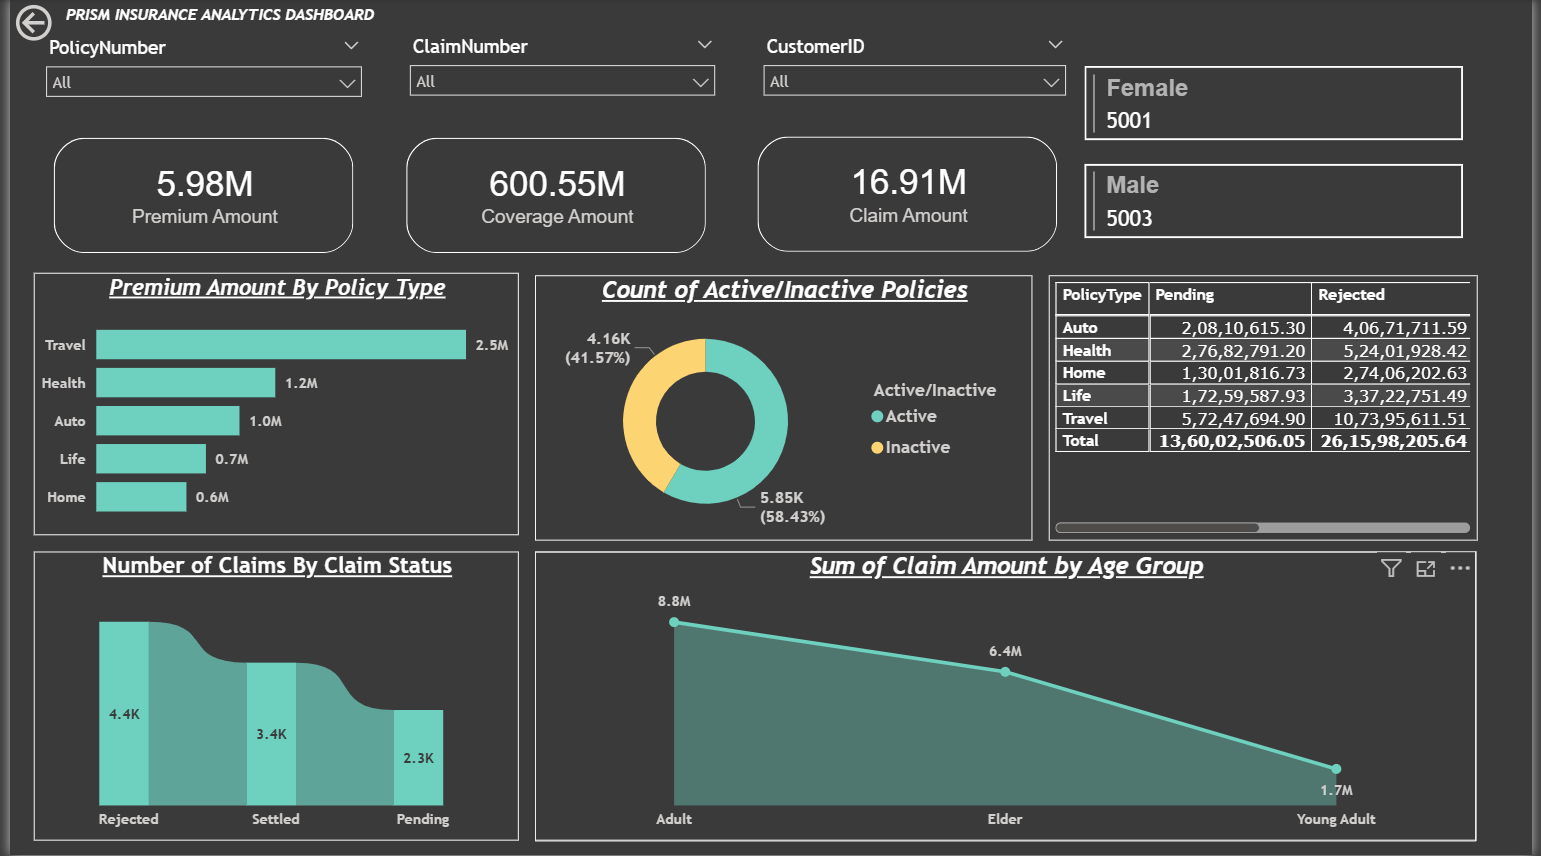

This screenshot's page, from the dashboard's own definition file:
{"tool":"powerbi","page":{"name":"Dashboard","canvas":[1280,720],"ordinal":0},"visuals":[{"type":"slicer","fields":{"Values":["InsuranceData.PolicyNumber"]},"box":[19.8,26.2,286.2,73.8],"z":0},{"type":"slicer","fields":{"Values":["InsuranceData.ClaimNumber"]},"box":[326,25,277.5,73.8],"z":1000},{"type":"slicer","fields":{"Values":["InsuranceData.CustomerID"]},"box":[623.5,25,275,73.8],"z":2000},{"type":"textbox","box":[41.6,0,284.8,35.3],"z":3000},{"type":"cardVisual","fields":{"Data":["InsuranceData.Total Premium Amount"]},"box":[19.8,100,286.2,131.2],"z":4000},{"type":"cardVisual","fields":{"Data":["InsuranceData.Total Coverage Amount"]},"box":[316,100,286.2,131.2],"z":5000},{"type":"cardVisual","fields":{"Data":["InsuranceData.Total Claim Amount"]},"box":[612.3,98.7,286.2,131.2],"z":6000},{"type":"multiRowCard","fields":{"Values":["InsuranceData.Gender","CountNonNull(InsuranceData.Gender)"]},"box":[898.8,51.2,327.9,179.1],"z":7000},{"type":"actionButton","box":[0,0,100,40],"z":8000},{"type":"ribbonChart","title":"Number of Claims By Claim Status","fields":{"Category":["InsuranceData.ClaimStatus"],"Y":["CountNonNull(InsuranceData.ClaimStatus)"]},"box":[19.8,465.1,408.1,243],"z":9000},{"type":"barChart","title":"Premium Amount By Policy Type","fields":{"Category":["InsuranceData.PolicyType"],"Y":["Sum(InsuranceData.PremiumAmount)"]},"box":[19.8,230.2,408.1,220.9],"z":10000},{"type":"lineChart","title":"Sum of Claim Amount by  Age Group","fields":{"Category":["InsuranceData. Age Group"],"Y":["InsuranceData.Avg Claim by Age Group"]},"box":[441.9,465.1,791.9,243],"z":11000},{"type":"donutChart","title":"Count of  Active/Inactive Policies","fields":{"Category":["InsuranceData. Active/Inactive"],"Y":["CountNonNull(InsuranceData. Active/Inactive)"]},"box":[441.3,232.6,418.6,223.3],"z":12000},{"type":"pivotTable","fields":{"Values":["Sum(InsuranceData.CoverageAmount)"],"Rows":["InsuranceData.PolicyType"],"Columns":["InsuranceData.ClaimStatus"]},"box":[873.3,232.6,360.5,223.3],"z":13000}]}

Visuals, with their boxes in screenshot pixels (x1, y1, x2, y2), scaled from the page's 1280x720 canvas onto the 1541x856 screenshot:
slicer - InsuranceData.PolicyNumber: 24,31,368,119
slicer - InsuranceData.ClaimNumber: 392,30,727,117
slicer - InsuranceData.CustomerID: 751,30,1082,117
textbox: 50,0,393,42
cardVisual - InsuranceData.Total Premium Amount: 24,119,368,275
cardVisual - InsuranceData.Total Coverage Amount: 380,119,725,275
cardVisual - InsuranceData.Total Claim Amount: 737,117,1082,273
multiRowCard - InsuranceData.Gender x CountNonNull(InsuranceData.Gender): 1082,61,1477,274
actionButton: 0,0,120,48
"Number of Claims By Claim Status" ribbonChart: 24,553,515,842
"Premium Amount By Policy Type" barChart: 24,274,515,536
"Sum of Claim Amount by  Age Group" lineChart: 532,553,1485,842
"Count of  Active/Inactive Policies" donutChart: 531,277,1035,542
pivotTable - Sum(InsuranceData.CoverageAmount) x InsuranceData.PolicyType: 1051,277,1485,542
